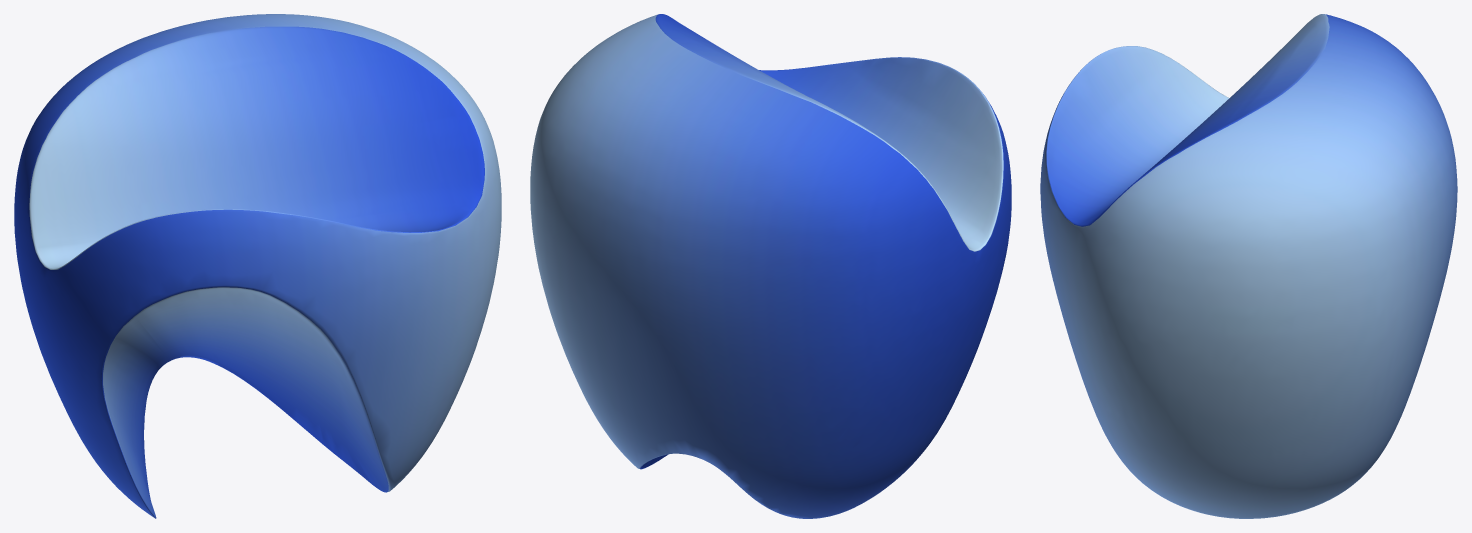
The model's file is tooth.glb.
3 views of the same model, side by side, from view 1: azimuth 30°, elevation 25°; view 2: azimuth 150°, elevation 25°; view 3: azimuth 270°, elevation 25° (orthographic). The views are drawn at different scales.
Parts seen in each view (by area): view 1: tooth_v4; view 2: tooth_v4; view 3: tooth_v4.
Boxes of the visible parts, x1=… form: tooth_v4: x1=14, y1=14, x2=501, y2=518; tooth_v4: x1=530, y1=14, x2=1011, y2=518; tooth_v4: x1=1040, y1=14, x2=1457, y2=518.
Bounding box in the file's own units: 0.096 × 0.095 × 0.0846.
Materials: 1 (1 with a texture image).
